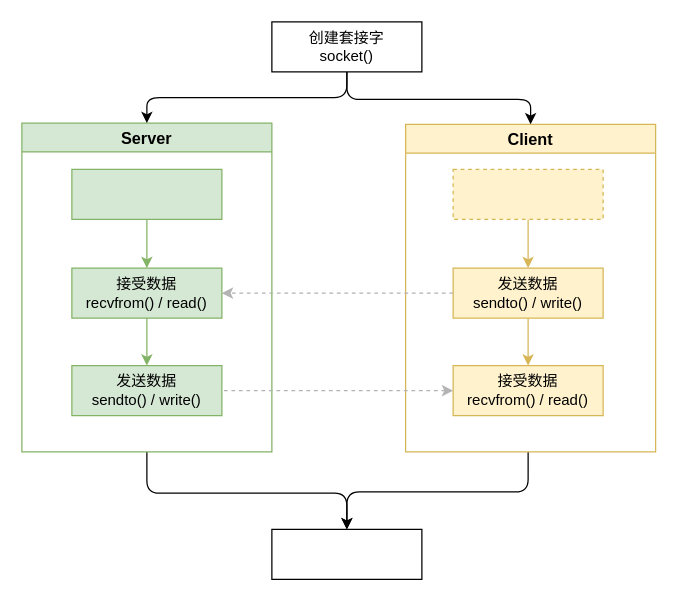
The diagram is 678 pixels wide and 601 high, and some of its shapes have lost their labels. The centre of each missing label's shape, as x and y in pixels:
"关闭连接 close()" goes at point (346, 553).
"分配IP与端口号 bind()" goes at point (146, 193).
"注册目标IP和端口 connect()" goes at point (527, 193).
